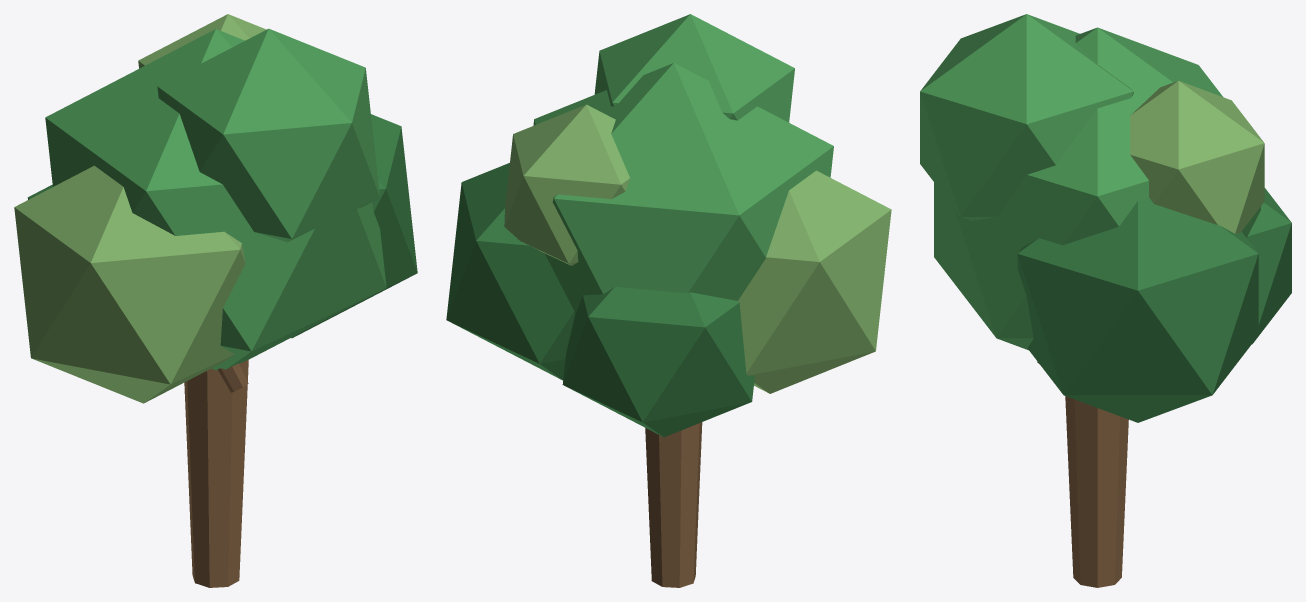
The model's file is t_tree_a.gltf.
The picture shows the model from 3 angles, left to right: view 1: azimuth 30°, elevation 25°; view 2: azimuth 150°, elevation 25°; view 3: azimuth 270°, elevation 25°; orthographic projection. The views are drawn at different scales.
Visible parts, largest first — view 1: t_tree_a; view 2: t_tree_a; view 3: t_tree_a.
Part boxes in pixels (<box>): t_tree_a: <box>14,14,417,587</box>; t_tree_a: <box>446,14,891,587</box>; t_tree_a: <box>920,14,1291,587</box>.
Size of the model in its own units: 2.32 by 3.12 by 1.84.
1 material, 1 textured.
